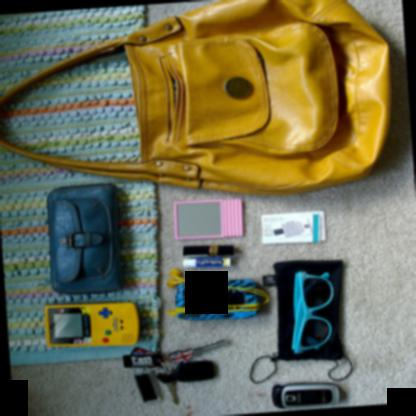handbag: (0, 0, 397, 192)
